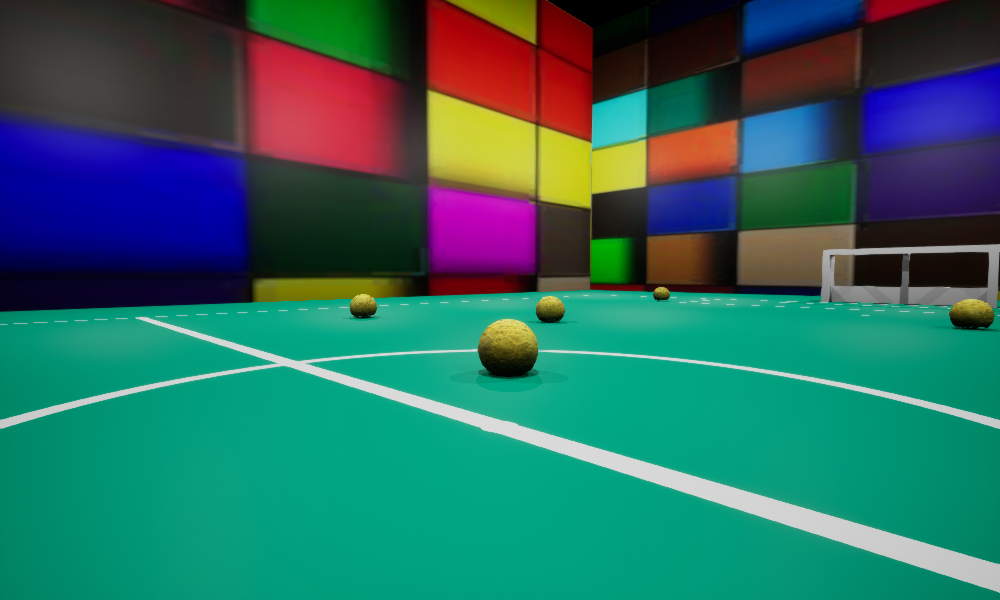b: (478, 319, 537, 375), (949, 299, 994, 329), (536, 296, 564, 322), (350, 294, 376, 317), (653, 287, 669, 300)
g: (821, 244, 999, 307)
